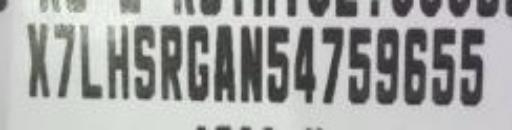letter: (458, 25, 486, 109), (236, 20, 264, 102), (264, 23, 292, 105), (76, 20, 104, 100), (318, 23, 346, 103), (104, 23, 132, 103), (184, 23, 212, 103), (400, 25, 428, 105), (374, 23, 400, 107), (346, 25, 372, 107), (430, 25, 456, 107), (212, 20, 238, 100), (292, 23, 318, 103), (160, 23, 186, 103), (130, 20, 156, 98), (24, 20, 50, 96), (52, 20, 78, 96)
